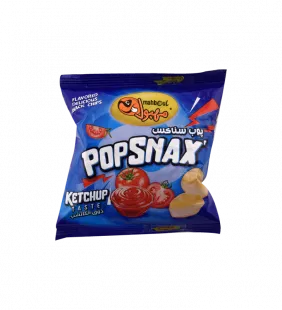MAHBOUL: (50, 60, 232, 246)
